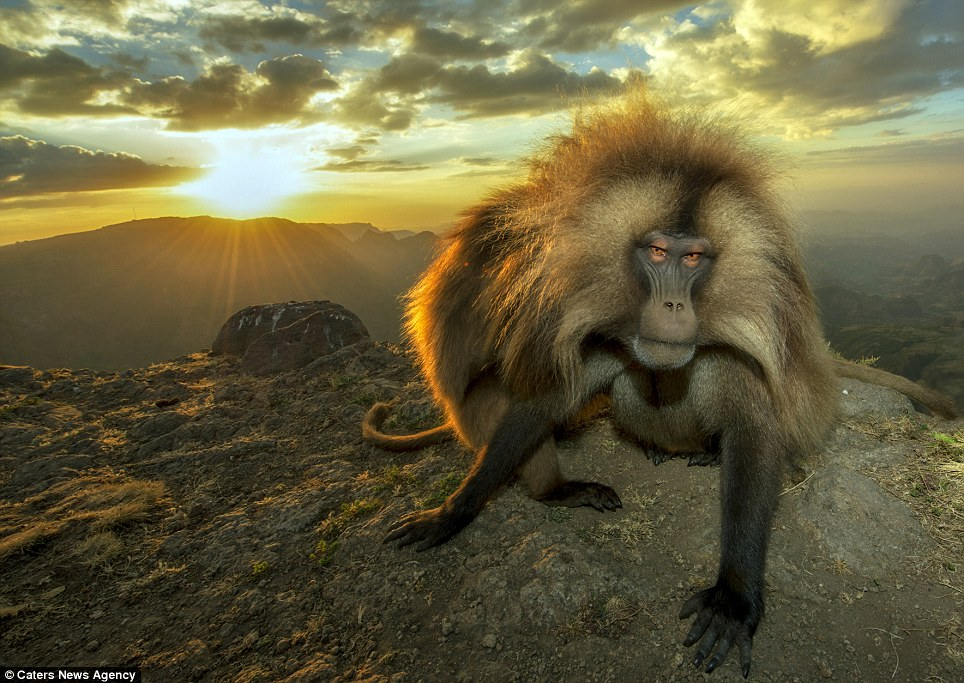Gelada: (443, 130, 851, 522)
